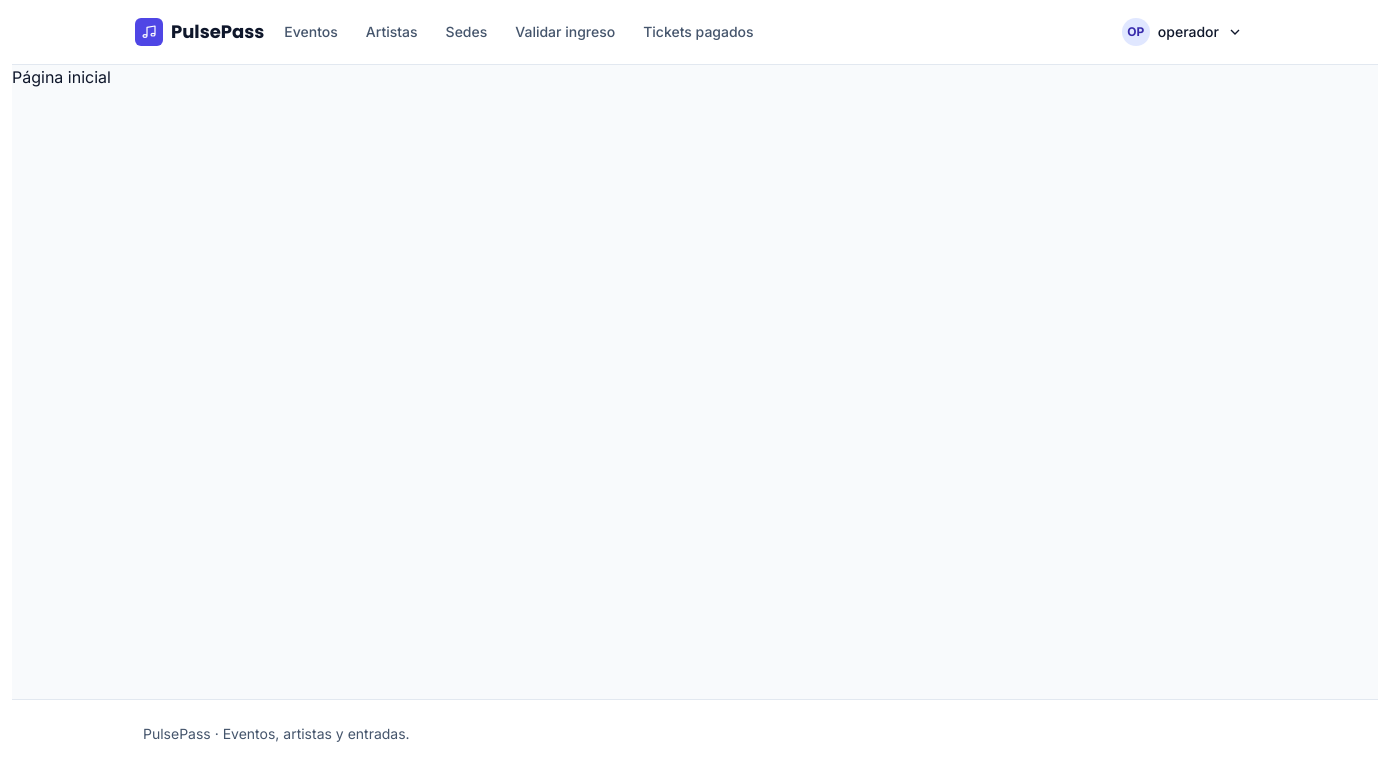
Scenario: Menú y acceso STAFF › muestra enlaces de operación a STAFF y permite navegar desde el menú
The width and height of the screenshot is (1378, 768).
Click the link "Validar ingreso": (565, 32) x1=515 y1=23 x2=615 y2=40
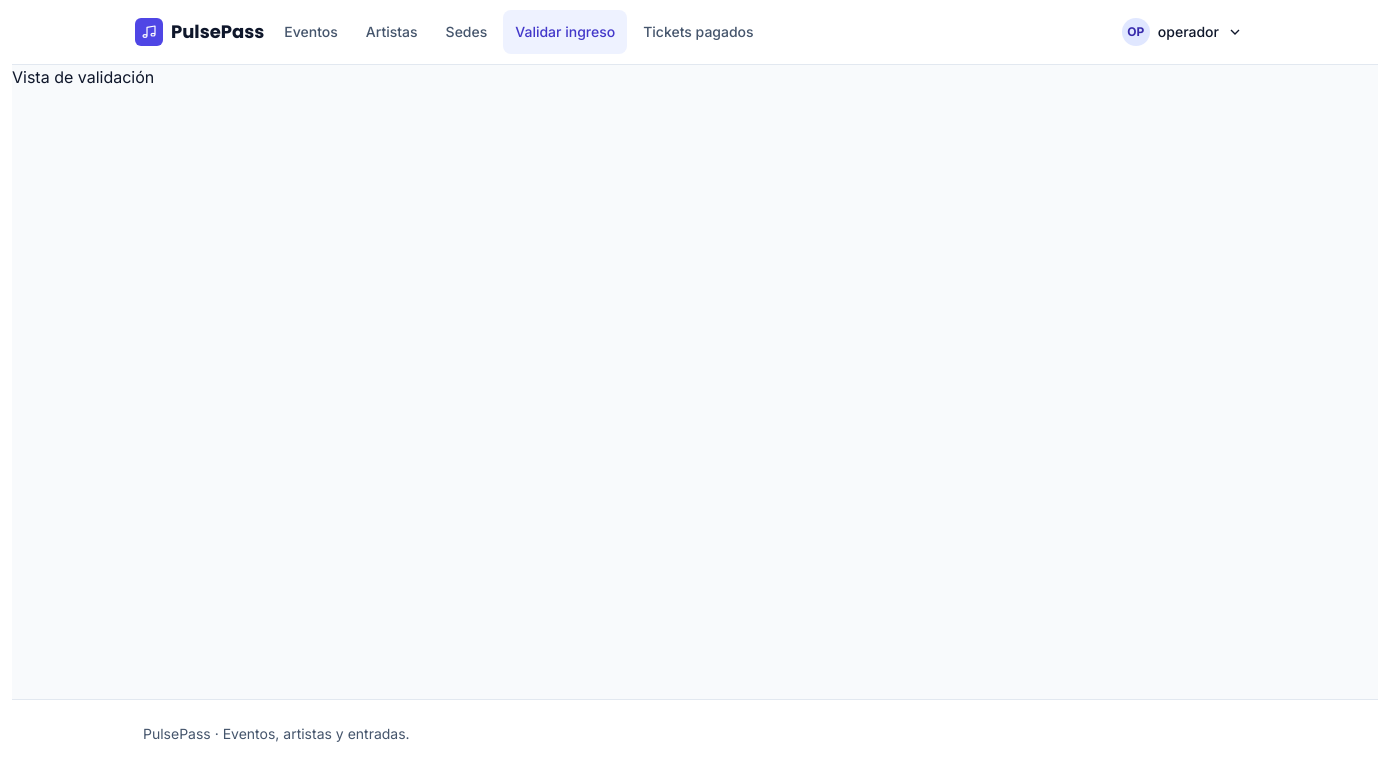
Expected: the heading "Vista de validación" is shown, x1=12 y1=67 x2=154 y2=87
Click the link "Tickets pagados": (698, 32) x1=643 y1=23 x2=754 y2=40
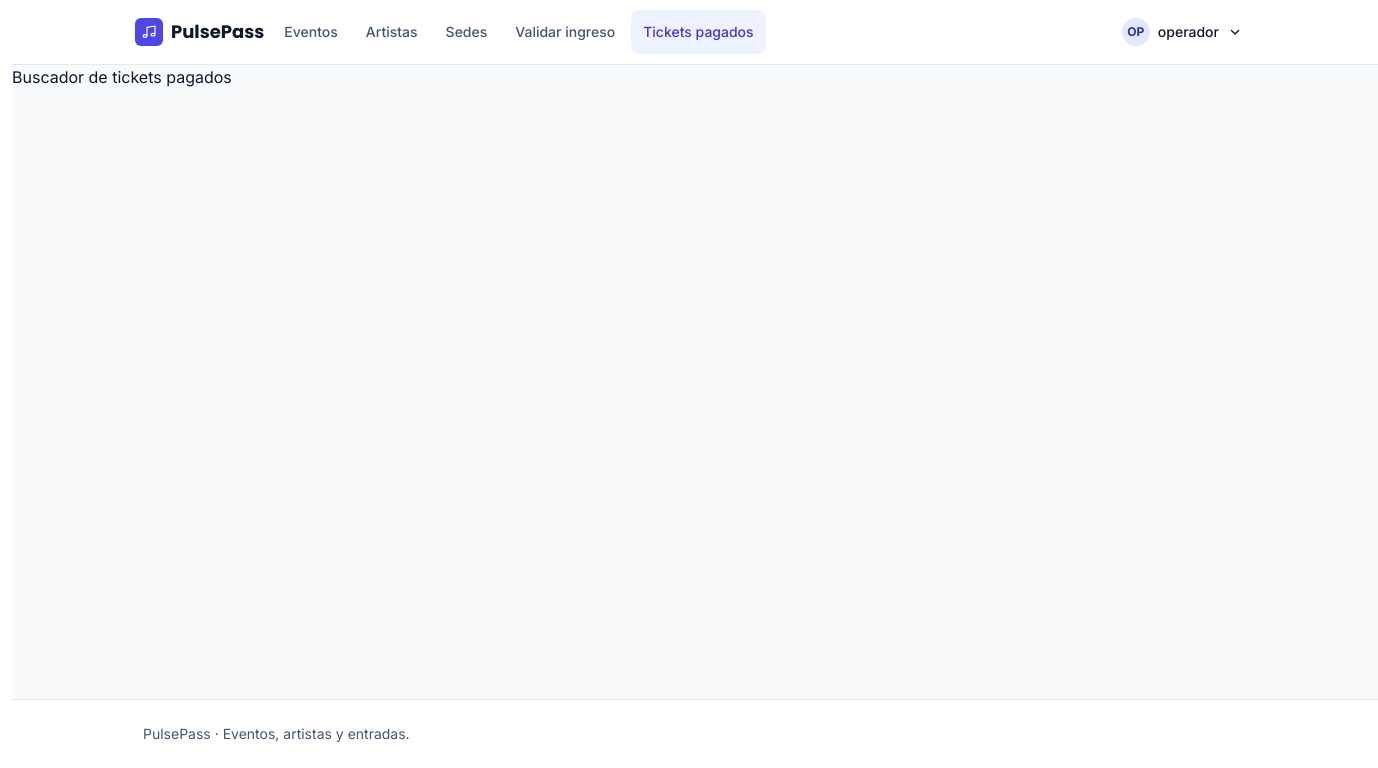
Expected: the heading "Buscador de tickets pagados" is shown, x1=12 y1=67 x2=232 y2=87
